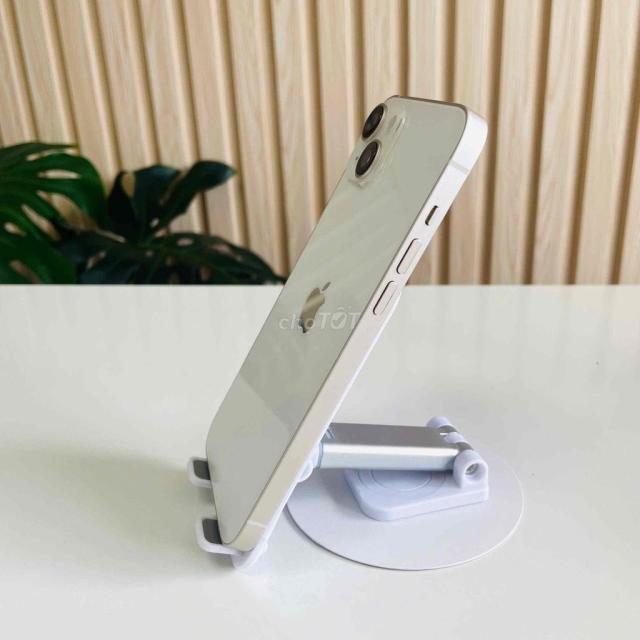gen_14: (199, 91, 477, 558)
